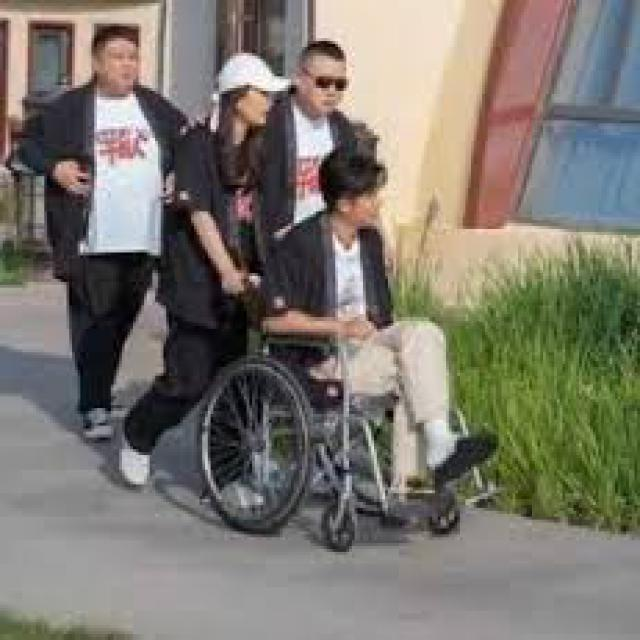wheelchairs: (177, 252, 510, 544)
